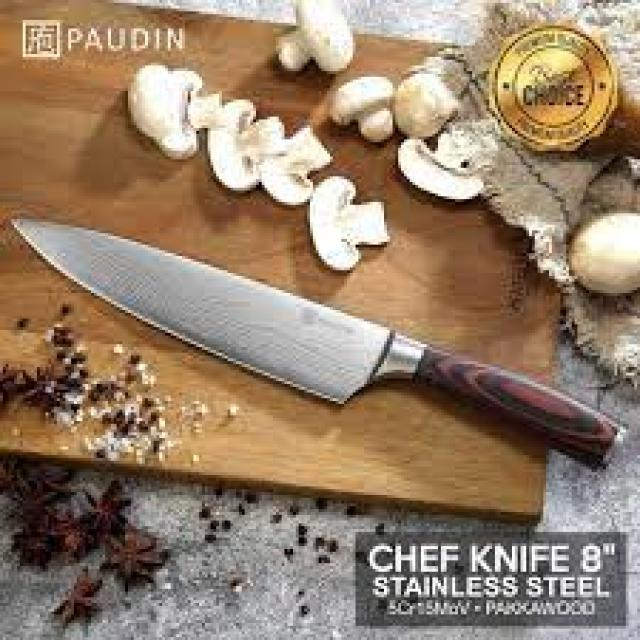Knife: (9, 158, 620, 480)
